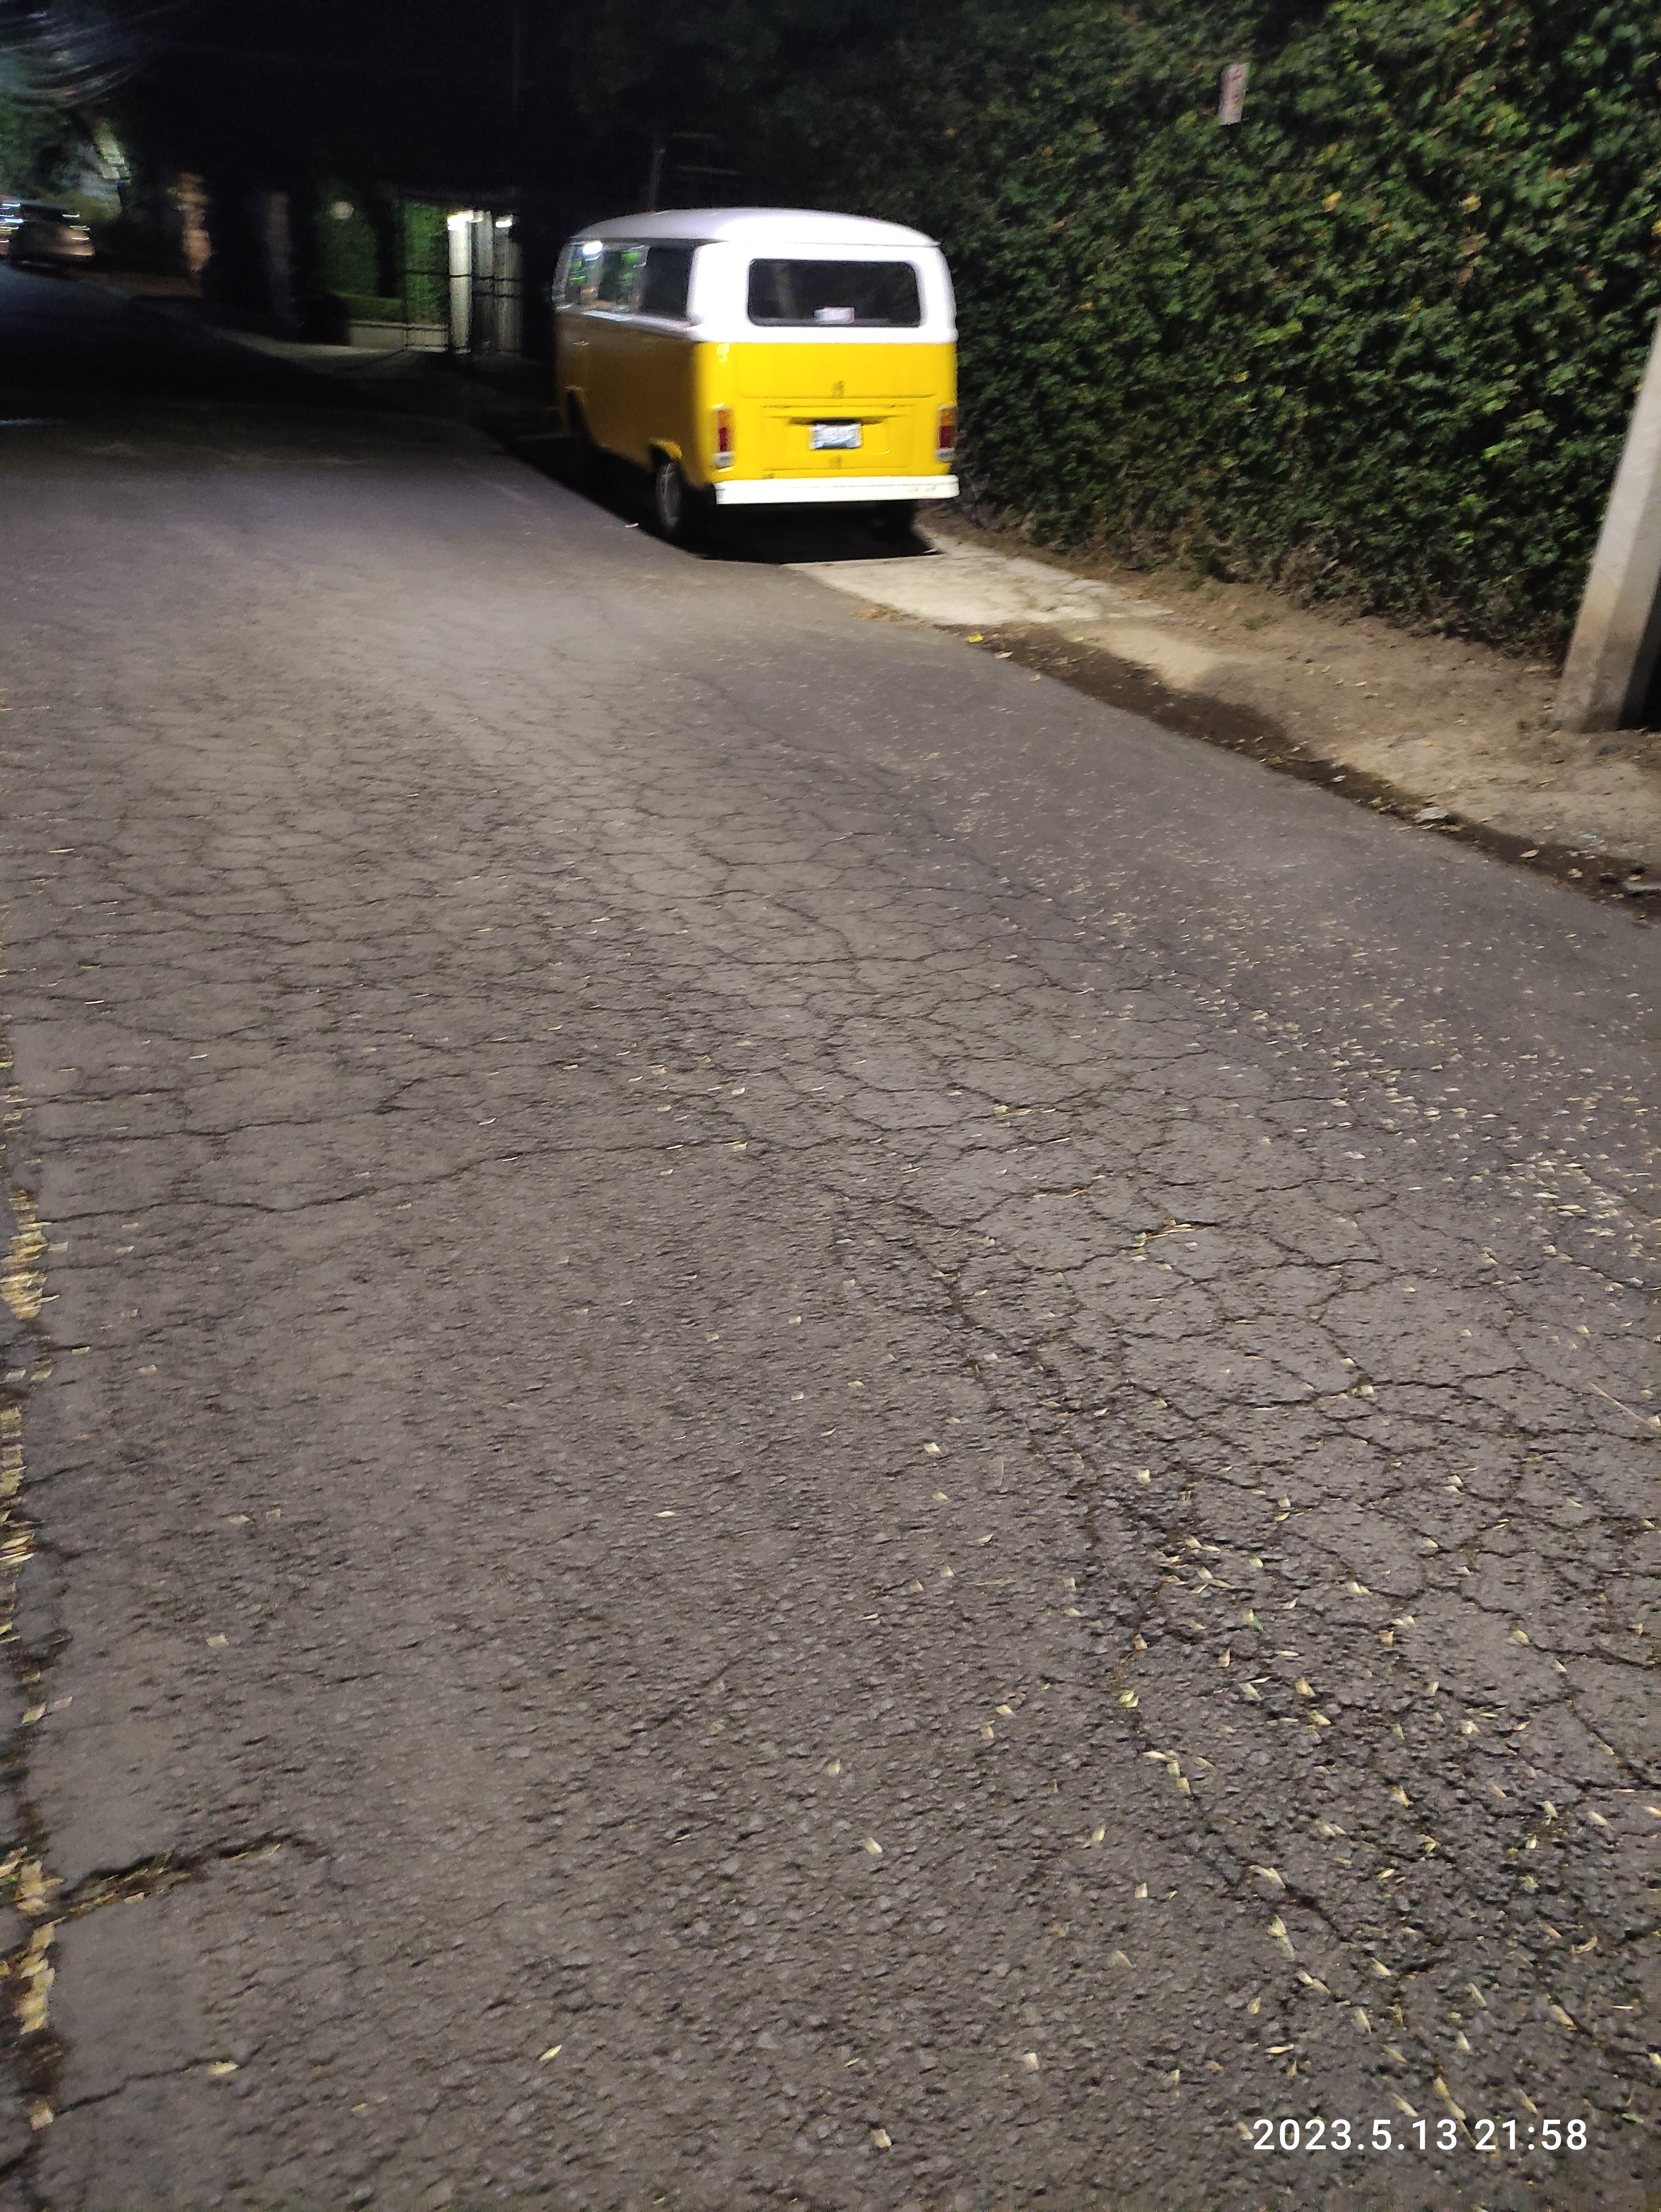alligator-crack: (724, 944, 1661, 1889), (21, 708, 666, 1251)
crack: (38, 1403, 361, 2212), (666, 719, 1090, 1050)
